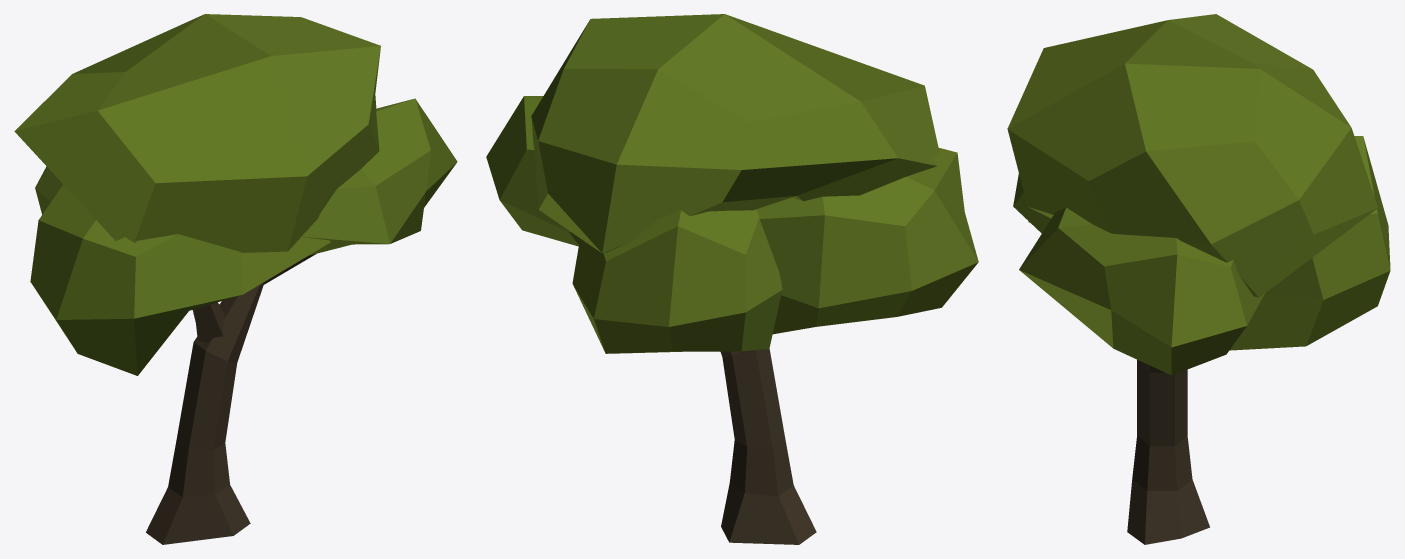
File: Tree 02.fbx
The picture shows the model from 3 angles, left to right: view 1: azimuth 30°, elevation 25°; view 2: azimuth 150°, elevation 25°; view 3: azimuth 270°, elevation 25°; orthographic projection. The views are drawn at different scales.
Visible parts, largest first — view 1: Cube; view 2: Cube; view 3: Cube.
Boxes of the visible parts, x1,y1,x2,y2 form: Cube: (14, 14, 457, 544); Cube: (486, 14, 978, 544); Cube: (1007, 14, 1390, 544).
Size of the model in its own units: 466 by 478 by 341.
